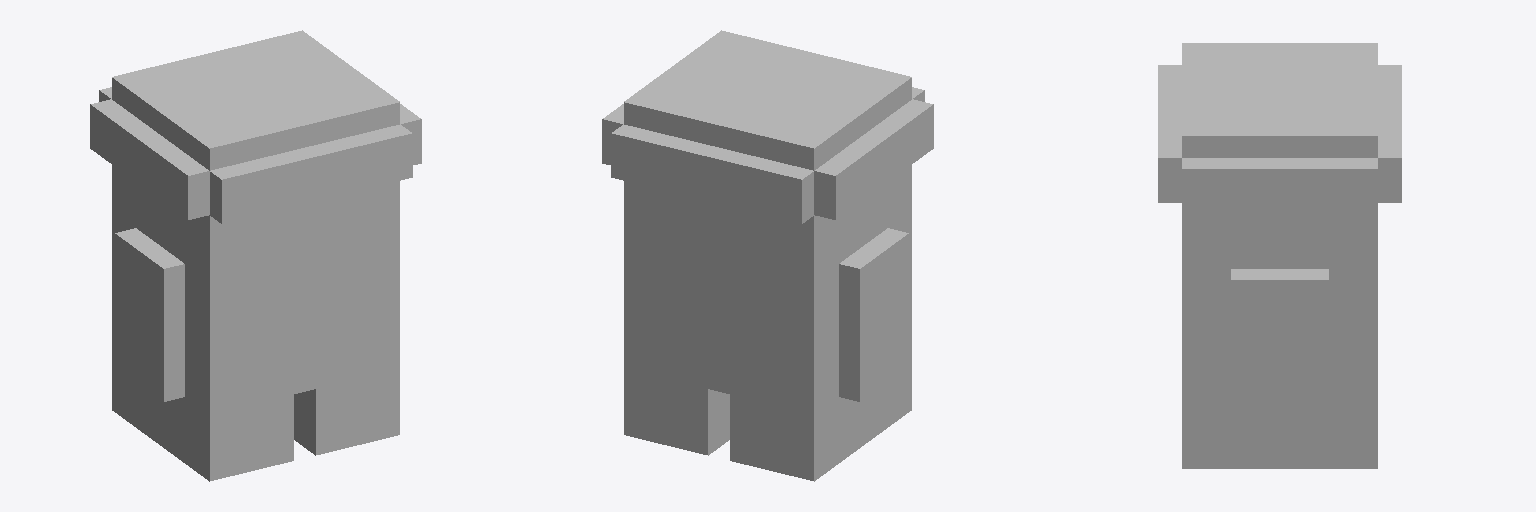
The model's file is Player.obj.
The picture shows the model from 3 angles: view 1: azimuth 30°, elevation 25°; view 2: azimuth 150°, elevation 25°; view 3: azimuth 270°, elevation 25°; orthographic projection.
Size of the model in its own units: 11 by 15 by 10.